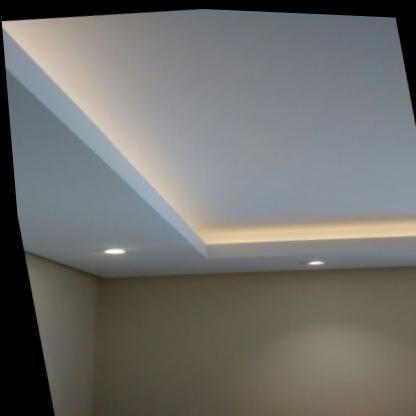Gypsum Board: (0, 0, 416, 303)
